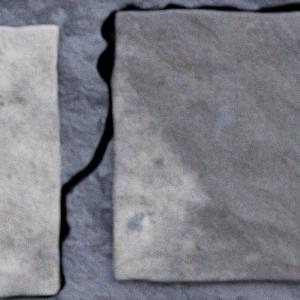brick: (112, 11, 299, 281), (0, 26, 61, 295)
crack: (0, 1, 299, 299)
